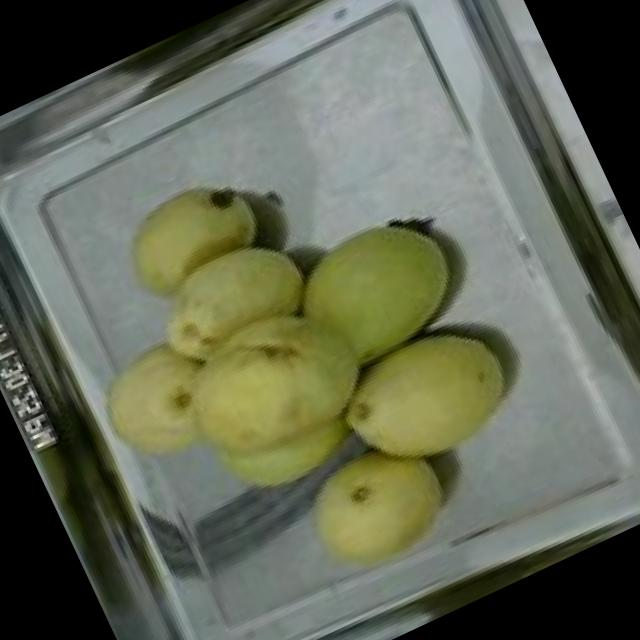Fruit: (46, 202, 408, 563), (312, 296, 538, 500), (266, 190, 480, 388), (275, 414, 477, 604), (100, 160, 280, 315)
